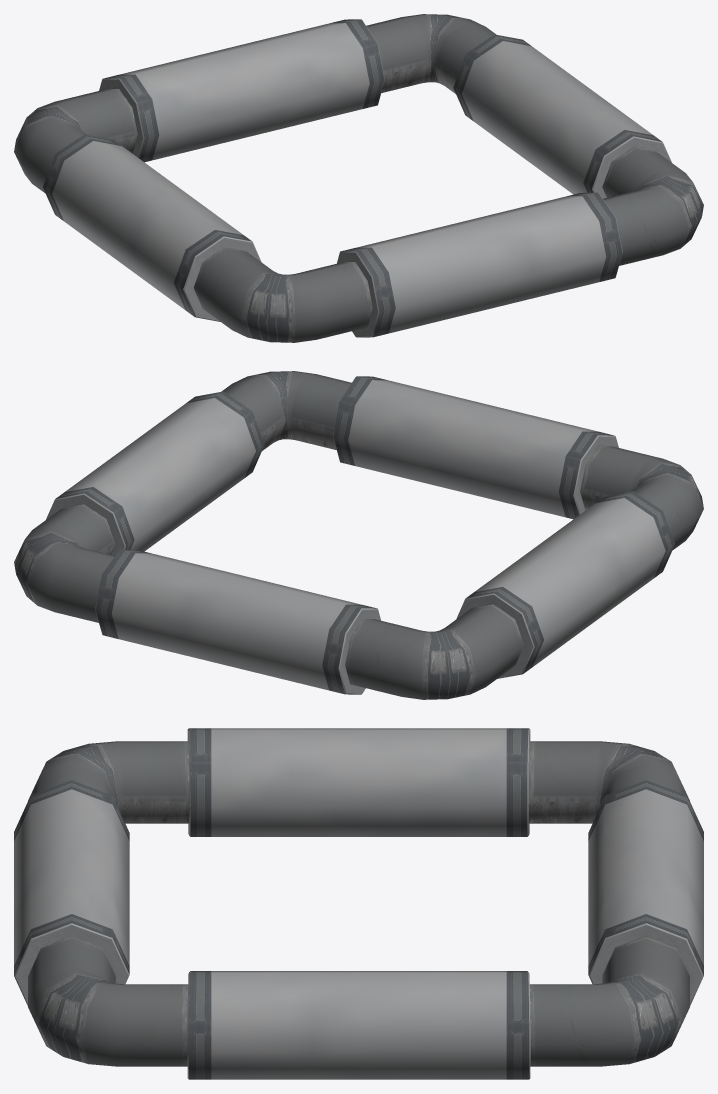
File: SM_PillarsTubes.fbx
The picture shows the model from 3 angles, top to bottom: view 1: azimuth 30°, elevation 25°; view 2: azimuth 150°, elevation 25°; view 3: azimuth 270°, elevation 25°; orthographic projection. The views are drawn at different scales.
Visible parts, largest first — view 1: SM_PillarsTubes_LOD0; view 2: SM_PillarsTubes_LOD0; view 3: SM_PillarsTubes_LOD0.
Boxes of the visible parts, x1,y1,x2,y2 form: SM_PillarsTubes_LOD0: (14,14,703,342); SM_PillarsTubes_LOD0: (14,371,703,699); SM_PillarsTubes_LOD0: (14,728,703,1079).
Size of the model in its own units: 93.39 by 93.39 by 15.65.
Materials: 1 (1 with a texture image).
